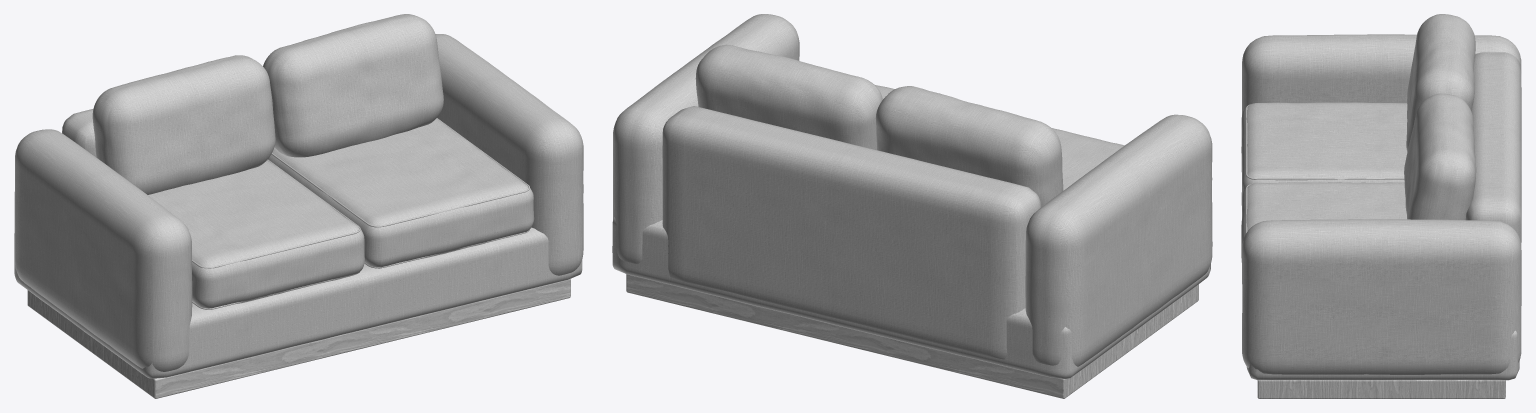
The model's file is sofa-2-seater.gltf.
3 renders of one model, left to right at view 1: azimuth 30°, elevation 25°; view 2: azimuth 150°, elevation 25°; view 3: azimuth 270°, elevation 25°, orthographic. The views are drawn at different scales.
Visible parts, largest first — view 1: sofa; view 2: sofa; view 3: sofa.
Boxes of the visible parts, box(x1,y1,x2,y2) form: sofa: box(14, 14, 583, 398); sofa: box(612, 14, 1212, 398); sofa: box(1241, 14, 1521, 398).
Size of the model in its own units: 1.6 by 0.7816 by 0.9035.
2 materials, 2 textured.
